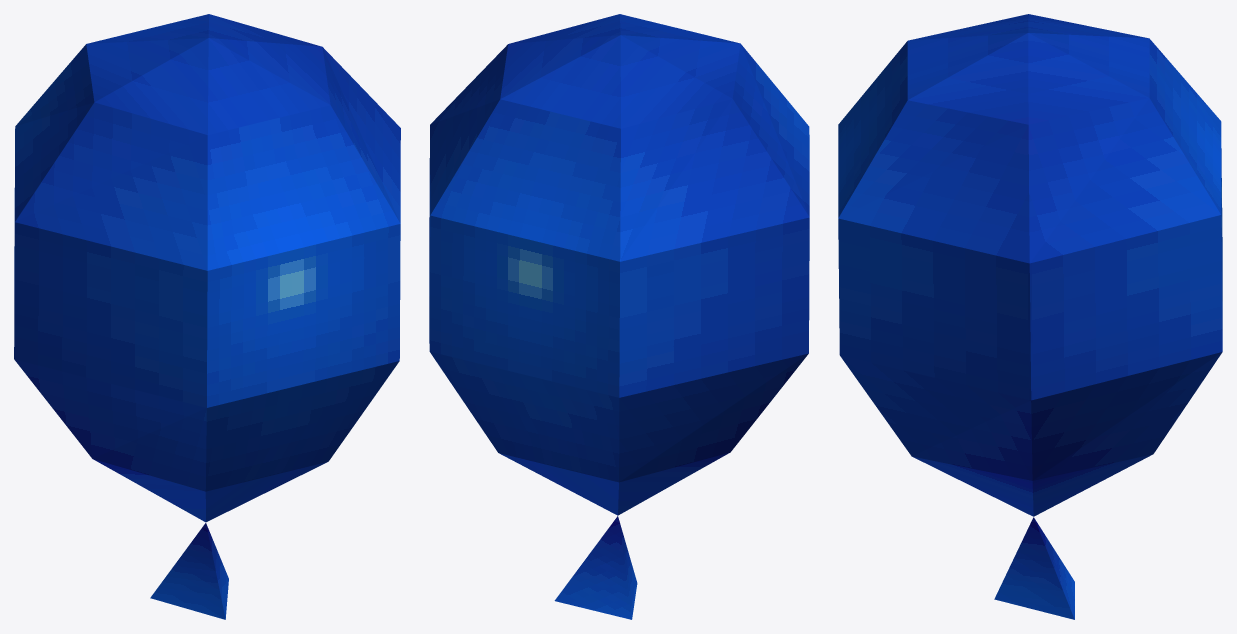
The model's file is Balloon.obj.
The picture shows the model from 3 angles, left to right: view 1: azimuth 30°, elevation 25°; view 2: azimuth 150°, elevation 25°; view 3: azimuth 270°, elevation 25°; orthographic projection.
Visible parts, largest first — view 1: ShapeIndexedFaceS.042; view 2: ShapeIndexedFaceS.042; view 3: ShapeIndexedFaceS.042.
Boxes of the visible parts, <box> form: ShapeIndexedFaceS.042: <box>14,14,400,619</box>; ShapeIndexedFaceS.042: <box>429,14,809,619</box>; ShapeIndexedFaceS.042: <box>838,14,1222,619</box>.
Bounding box in the file's own units: 2.14 × 3.02 × 1.85.
